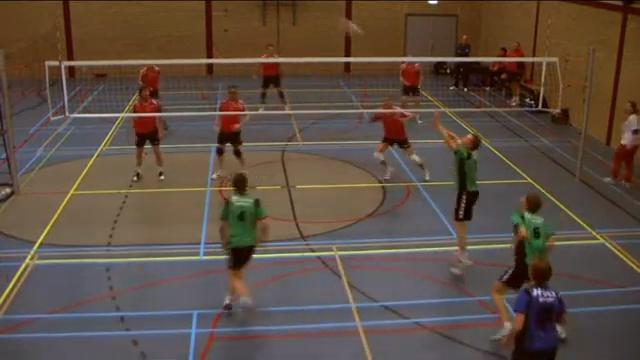alzata: (430, 110, 485, 284)
